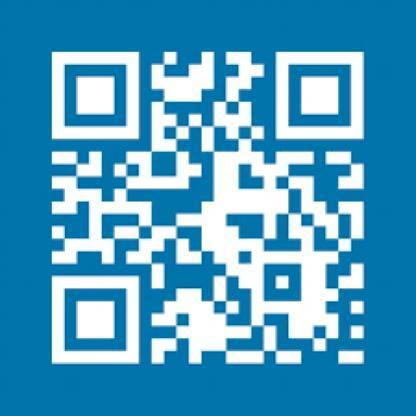qr_code: (51, 51, 364, 365)
